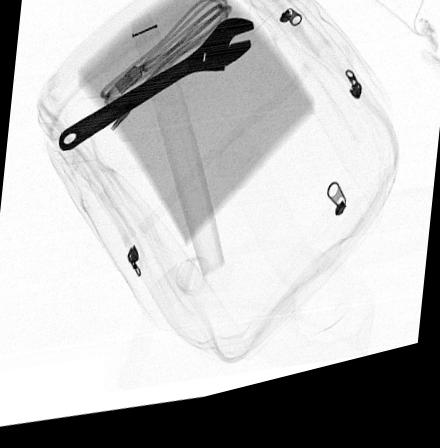Wrench: (57, 27, 256, 155)
